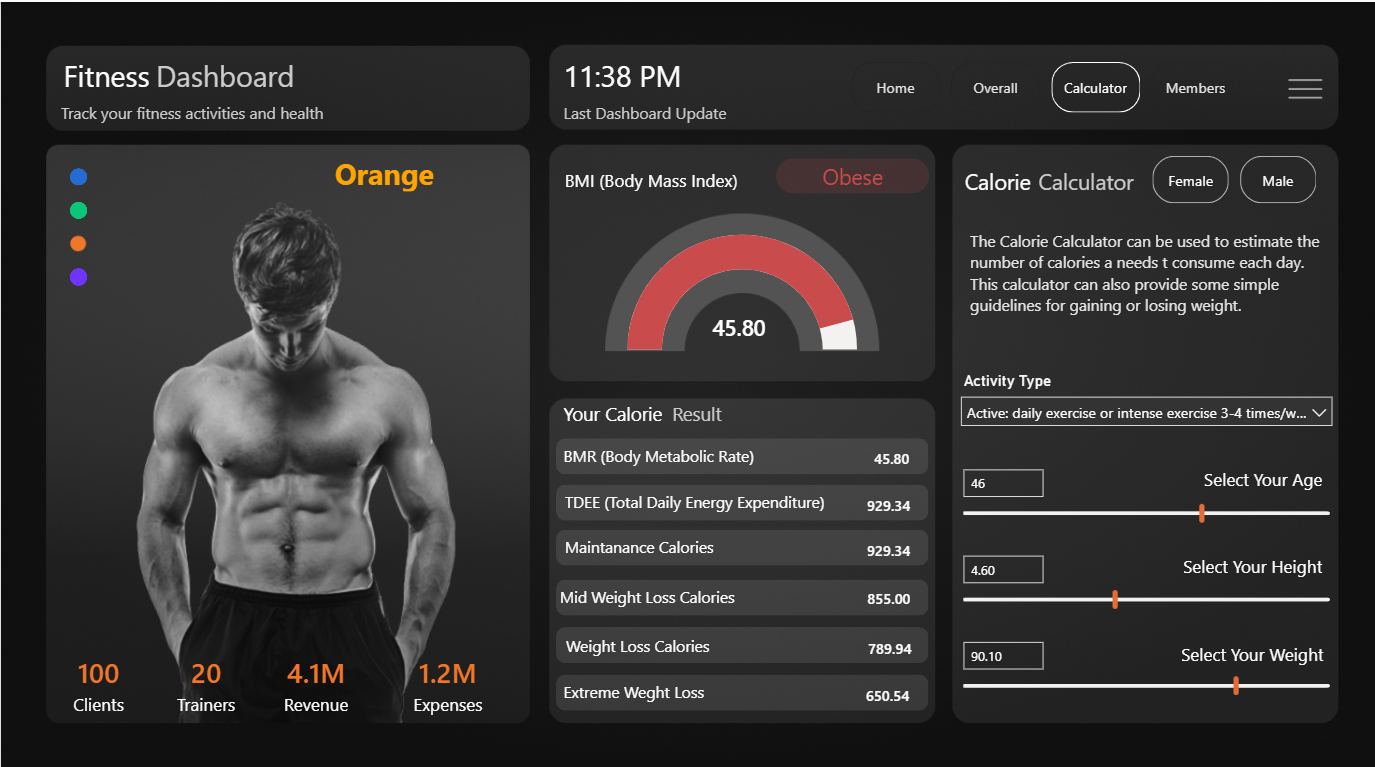

The dashboard page shown, as its layout file describes it:
{"tool":"powerbi","page":{"name":"Calculator","canvas":[1280,720],"ordinal":2},"visuals":[{"type":"shape","box":[516.3,625.6,346.5,33.7],"z":0},{"type":"shape","box":[523.3,401.2,226.7,40.7],"z":1000},{"type":"shape","box":[516.3,405.8,346.5,33.7],"z":2000},{"type":"slicer","fields":{"Values":["Age_Slider.Age_Slider"]},"box":[882.3,424,366.4,63.1],"z":3000},{"type":"slicer","fields":{"Values":["Height-Slider.Height-Slider"]},"box":[882.3,505,366.4,63.1],"z":4000},{"type":"slicer","fields":{"Values":["Weight_Slider.Weight_Slider"]},"box":[882.3,584.6,366.4,68.6],"z":5000},{"type":"slicer","fields":{"Values":["Slider_Activity.Category"]},"box":[882.3,338.9,366.4,61.7],"z":6000},{"type":"advancedSlicerVisual","fields":{"Values":["Slider_Gender.Category"]},"box":[1066.2,138.6,163.3,54.9],"z":7000},{"type":"shape","box":[896.1,153.7,86.4,24.7],"z":8000},{"type":"shape","box":[964.7,153.7,101.5,24.7],"z":9000},{"type":"textbox","box":[896.1,207.2,347.2,97.4],"z":10000},{"type":"gauge","fields":{"Y":["_Measure.BMI"]},"box":[577.7,207.2,223.7,126.2],"z":11000},{"type":"shape","box":[1082.7,430.9,146.8,24.7],"z":12000},{"type":"shape","box":[1090.9,511.8,138.6,24.7],"z":13000},{"type":"shape","box":[1092.3,594.2,138.6,24.7],"z":14000},{"type":"cardVisual","fields":{"Data":["_Measure.BMI"]},"box":[632.6,270.3,116.6,63.1],"z":15000},{"type":"shape","box":[524.2,145.5,167.4,41.2],"z":16000},{"type":"shape","box":[720.4,145.5,142.7,32.9],"z":17000},{"type":"cardVisual","fields":{"Data":["_Measure.BMI"]},"box":[765.1,396.5,109.3,54.7],"z":18000},{"type":"shape","box":[523.3,369.8,93,25.6],"z":19000},{"type":"shape","box":[624.4,369.8,52.3,25.6],"z":20000},{"type":"cardVisual","fields":{"Data":["_Measure.TDEE"]},"box":[765.1,439.5,110.5,54.7],"z":21000},{"type":"cardVisual","fields":{"Data":["_Measure.Maintain Calories"]},"box":[765.1,481.4,110.5,54.7],"z":22000},{"type":"cardVisual","fields":{"Data":["_Measure.Mild Weight Loss Calories"]},"box":[765.1,526.7,110.5,54.7],"z":23000},{"type":"cardVisual","fields":{"Data":["_Measure.Weight Loss Calories"]},"box":[765.1,573.3,111.6,54.7],"z":24000},{"type":"cardVisual","fields":{"Data":["_Measure.Extreme Weight Loss Calories"]},"box":[765.1,616.3,109.3,54.7],"z":25000},{"type":"shape","box":[524.4,444.2,267.4,40.7],"z":26000},{"type":"shape","box":[516.5,449.3,346.5,33.7],"z":27000},{"type":"shape","box":[524.9,486.5,226.7,40.7],"z":28000},{"type":"shape","box":[516.3,490.7,346.5,33.7],"z":29000},{"type":"shape","box":[520.2,533,226.7,40.7],"z":30000},{"type":"shape","box":[516.3,537.2,346.5,33.7],"z":31000},{"type":"shape","box":[525.8,577.7,226.7,40.7],"z":32000},{"type":"shape","box":[516.3,581.4,346.5,33.7],"z":33000},{"type":"shape","box":[523,620.5,226.7,40.7],"z":34000},{"type":"image","box":[1193.8,60.4,39.8,42.5],"z":35000},{"type":"shape","box":[522.8,48,116.6,39.8],"z":36000},{"type":"shape","box":[522.8,87.8,171.5,30.2],"z":37000},{"type":"shape","box":[57.6,48,149.6,39.8],"z":38000},{"type":"shape","box":[144.1,48,149.6,39.8],"z":39000},{"type":"shape","box":[56.3,87.8,318.4,30.2],"z":40000},{"type":"advancedSlicerVisual","fields":{"Values":["ColorCodes.Color"],"Label":["Min(ColorCodes.Icon)"]},"box":[53.5,146.5,37.2,126.7],"z":41000},{"type":"shape","box":[310.5,131.4,95.3,54.7],"z":42000},{"type":"cardVisual","fields":{"Data":["_Measure.User_Count"]},"box":[31.6,590.1,119.4,91.9],"z":43000},{"type":"cardVisual","fields":{"Data":["Count(Users.Trainer Name)"]},"box":[131.7,588.7,119.4,93.3],"z":44000},{"type":"cardVisual","fields":{"Data":["_Measure.Revenue"]},"box":[233.3,590.1,119.4,91.9],"z":45000},{"type":"cardVisual","fields":{"Data":["_Measure.Expenses"]},"box":[352.7,590.1,127.6,91.9],"z":46000},{"type":"pageNavigator","box":[790.7,55.8,365.1,47.7],"z":47000}]}

Visuals, with their boxes in screenshot pixels (x1, y1, x2, y2), scaled from the page's 1280x720 canvas onto the 1375x767 screenshot:
shape: (x1=555, y1=666, x2=927, y2=702)
shape: (x1=562, y1=427, x2=806, y2=471)
shape: (x1=555, y1=432, x2=927, y2=468)
slicer - Age_Slider.Age_Slider: (x1=948, y1=452, x2=1341, y2=519)
slicer - Height-Slider.Height-Slider: (x1=948, y1=538, x2=1341, y2=605)
slicer - Weight_Slider.Weight_Slider: (x1=948, y1=623, x2=1341, y2=696)
slicer - Slider_Activity.Category: (x1=948, y1=361, x2=1341, y2=427)
advancedSlicerVisual - Slider_Gender.Category: (x1=1145, y1=148, x2=1321, y2=206)
shape: (x1=963, y1=164, x2=1055, y2=190)
shape: (x1=1036, y1=164, x2=1145, y2=190)
textbox: (x1=963, y1=221, x2=1336, y2=324)
gauge - _Measure.BMI: (x1=621, y1=221, x2=861, y2=355)
shape: (x1=1163, y1=459, x2=1321, y2=485)
shape: (x1=1172, y1=545, x2=1321, y2=572)
shape: (x1=1173, y1=633, x2=1322, y2=659)
cardVisual - _Measure.BMI: (x1=680, y1=288, x2=805, y2=355)
shape: (x1=563, y1=155, x2=743, y2=199)
shape: (x1=774, y1=155, x2=927, y2=190)
cardVisual - _Measure.BMI: (x1=822, y1=422, x2=939, y2=481)
shape: (x1=562, y1=394, x2=662, y2=421)
shape: (x1=671, y1=394, x2=727, y2=421)
cardVisual - _Measure.TDEE: (x1=822, y1=468, x2=941, y2=526)
cardVisual - _Measure.Maintain Calories: (x1=822, y1=513, x2=941, y2=571)
cardVisual - _Measure.Mild Weight Loss Calories: (x1=822, y1=561, x2=941, y2=619)
cardVisual - _Measure.Weight Loss Calories: (x1=822, y1=611, x2=942, y2=669)
cardVisual - _Measure.Extreme Weight Loss Calories: (x1=822, y1=657, x2=939, y2=715)
shape: (x1=563, y1=473, x2=851, y2=517)
shape: (x1=555, y1=479, x2=927, y2=515)
shape: (x1=564, y1=518, x2=807, y2=562)
shape: (x1=555, y1=523, x2=927, y2=559)
shape: (x1=559, y1=568, x2=802, y2=611)
shape: (x1=555, y1=572, x2=927, y2=608)
shape: (x1=565, y1=615, x2=808, y2=659)
shape: (x1=555, y1=619, x2=927, y2=655)
shape: (x1=562, y1=661, x2=805, y2=704)
image: (x1=1282, y1=64, x2=1325, y2=110)
shape: (x1=562, y1=51, x2=687, y2=94)
shape: (x1=562, y1=94, x2=746, y2=126)
shape: (x1=62, y1=51, x2=223, y2=94)
shape: (x1=155, y1=51, x2=315, y2=94)
shape: (x1=60, y1=94, x2=403, y2=126)
advancedSlicerVisual - ColorCodes.Color x Min(ColorCodes.Icon): (x1=57, y1=156, x2=97, y2=291)
shape: (x1=334, y1=140, x2=436, y2=198)
cardVisual - _Measure.User_Count: (x1=34, y1=629, x2=162, y2=727)
cardVisual - Count(Users.Trainer Name): (x1=141, y1=627, x2=270, y2=727)
cardVisual - _Measure.Revenue: (x1=251, y1=629, x2=379, y2=727)
cardVisual - _Measure.Expenses: (x1=379, y1=629, x2=516, y2=727)
pageNavigator: (x1=849, y1=59, x2=1242, y2=110)
